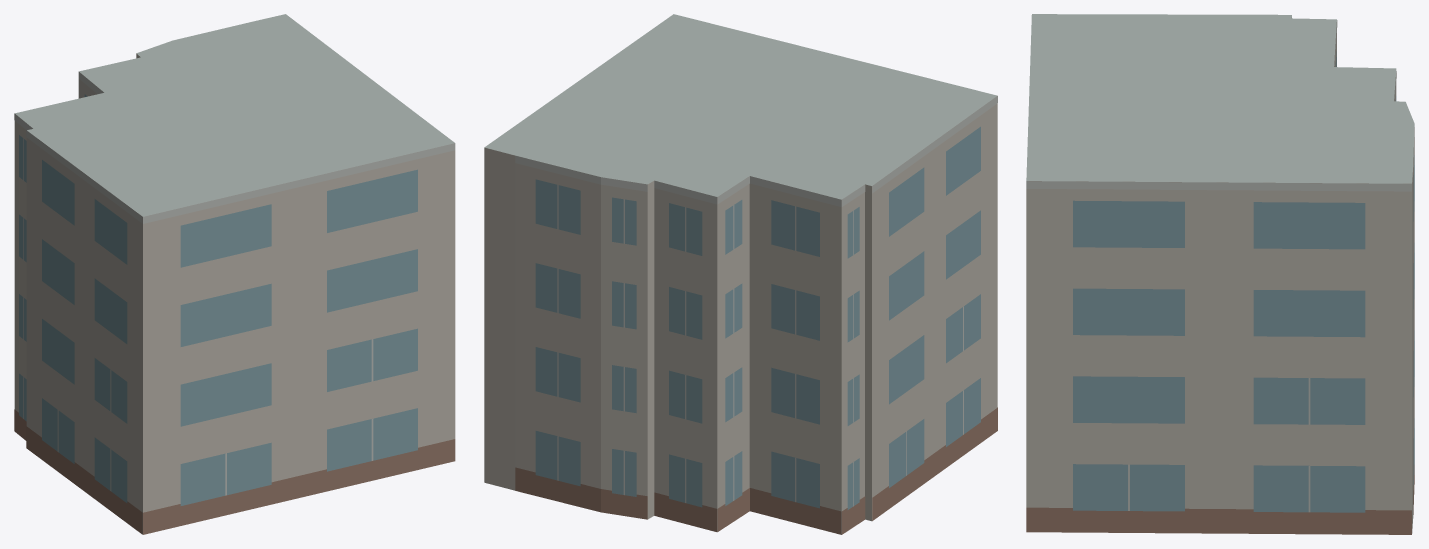
File: survey-upis-32622403.glb
The picture shows the model from 3 angles, left to right: view 1: azimuth 30°, elevation 25°; view 2: azimuth 150°, elevation 25°; view 3: azimuth 270°, elevation 25°; orthographic projection. The views are drawn at different scales.
Parts seen in each view (by area): view 1: survey-upis-32622403.tmp; view 2: survey-upis-32622403.tmp; view 3: survey-upis-32622403.tmp.
Part boxes in pixels (x1,y1,x2,y2): survey-upis-32622403.tmp: (14,14,455,534); survey-upis-32622403.tmp: (484,14,997,534); survey-upis-32622403.tmp: (1026,14,1414,534).
Size of the model in its own units: 11.31 by 10.9 by 10.94.
